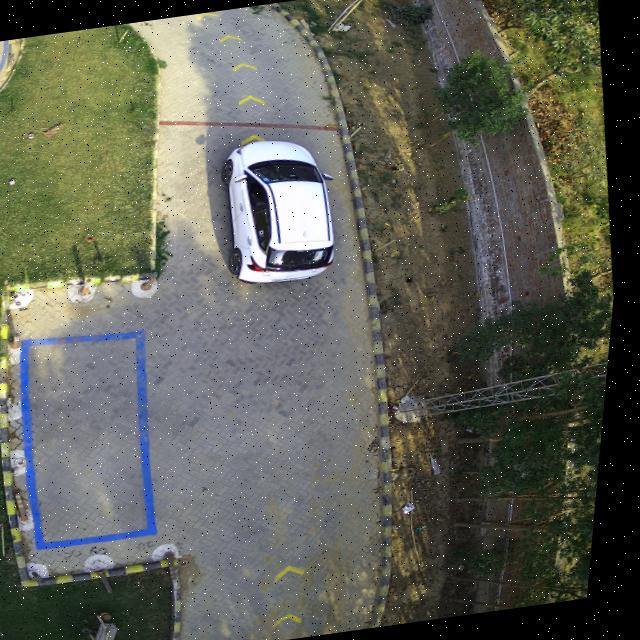car: (226, 141, 339, 283)
